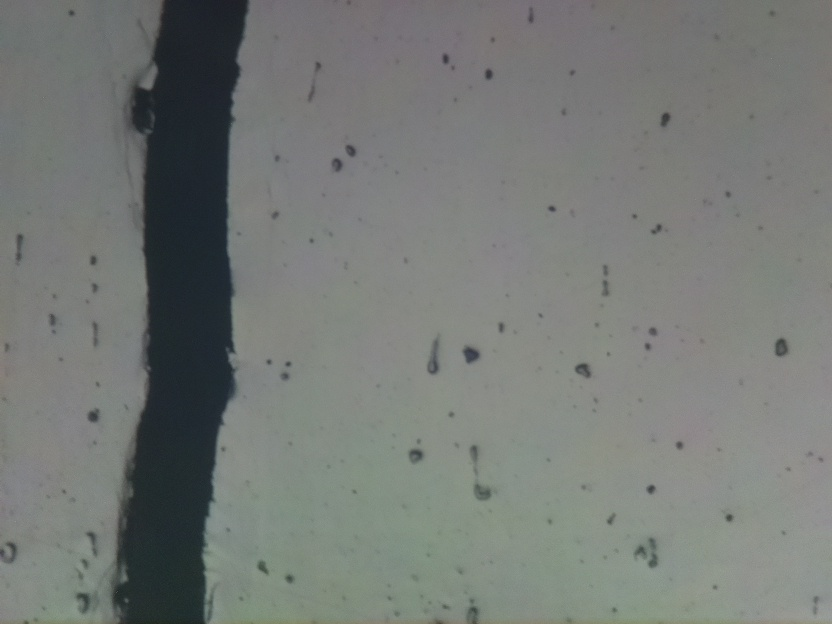crack: (108, 0, 256, 624)
